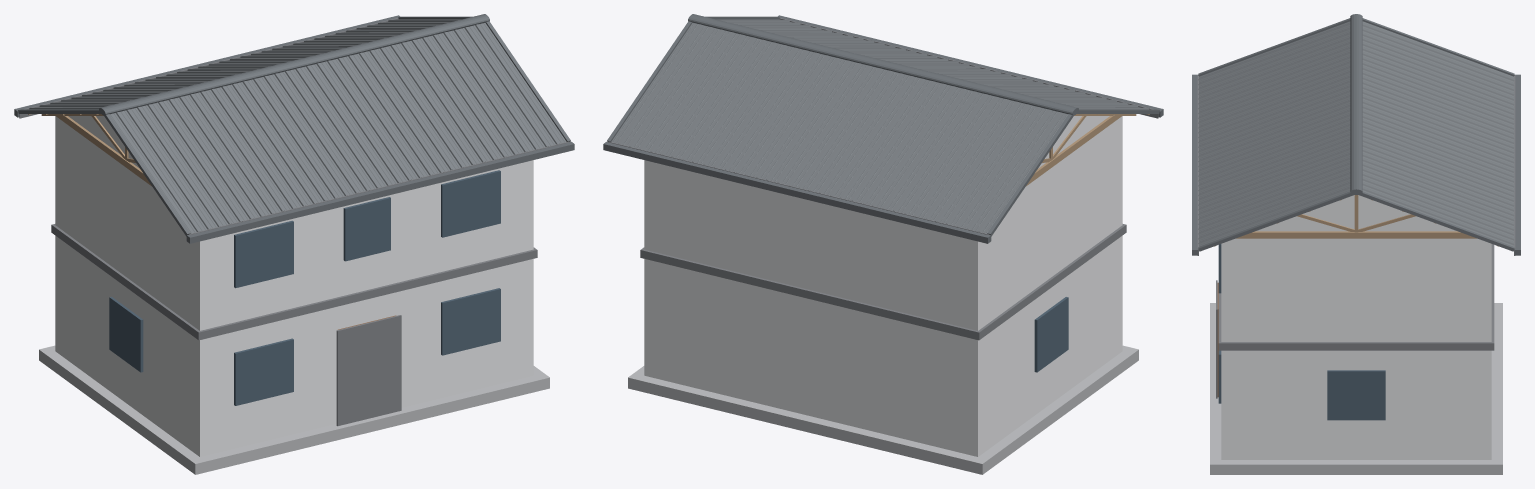
Rendered from Pico_Rib_1220_Two_Storey_8x6.glb.
3 renders of one model, left to right at view 1: azimuth 30°, elevation 25°; view 2: azimuth 150°, elevation 25°; view 3: azimuth 270°, elevation 25°, orthographic. The views are drawn at different scales.
Visible parts, largest first — view 1: GroundFloor_Walls, Foundation, Door_Frame, RoofSheet_03, RoofSheet_05, RoofSheet_08, RoofSheet_02, RoofSheet_04, RoofSheet_06, RoofSheet_07, RoofSheet_01, RoofSheet_09 (+25 smaller); view 2: GroundFloor_Walls, Foundation, RoofSheet_12, RoofSheet_14, RoofSheet_17, RoofSheet_11, RoofSheet_13, RoofSheet_15, RoofSheet_16, RoofSheet_10, RoofSheet_18, SecondFloor_BandTrim (+19 smaller); view 3: GroundFloor_Walls, Foundation, Gable_Wall_Right, SecondFloor_BandTrim, RoofSheet_02, RoofSheet_03, RoofSheet_04, RoofSheet_08, RoofSheet_11, RoofSheet_12, RoofSheet_13, RoofSheet_17 (+21 smaller).
Part boxes in pixels (<box>): GroundFloor_Walls: <box>55,116,533,456</box>; Foundation: <box>39,345,549,474</box>; Door_Frame: <box>336,315,401,426</box>; RoofSheet_03: <box>192,84,315,213</box>; RoofSheet_05: <box>276,63,399,192</box>; RoofSheet_08: <box>403,32,526,161</box>; RoofSheet_02: <box>150,94,272,223</box>; RoofSheet_04: <box>234,73,357,202</box>; RoofSheet_06: <box>319,53,441,182</box>; RoofSheet_07: <box>361,42,484,172</box>; RoofSheet_01: <box>109,104,230,233</box>; RoofSheet_09: <box>445,23,566,151</box>; GroundFloor_Walls: <box>644,116,1122,456</box>; Foundation: <box>628,345,1138,474</box>; RoofSheet_12: <box>862,84,985,213</box>; RoofSheet_14: <box>778,63,901,192</box>; RoofSheet_17: <box>651,32,774,161</box>; RoofSheet_11: <box>905,94,1027,223</box>; RoofSheet_13: <box>820,73,943,202</box>; RoofSheet_15: <box>736,53,858,182</box>; RoofSheet_16: <box>693,42,816,172</box>; RoofSheet_10: <box>947,104,1068,233</box>; RoofSheet_18: <box>611,23,732,151</box>; SecondFloor_BandTrim: <box>640,224,1126,340</box>; GroundFloor_Walls: <box>1221,238,1491,459</box>; Foundation: <box>1210,303,1502,474</box>; Gable_Wall_Right: <box>1256,195,1456,231</box>; SecondFloor_BandTrim: <box>1218,244,1494,350</box>; RoofSheet_02: <box>1198,38,1350,113</box>; RoofSheet_03: <box>1198,58,1350,132</box>; RoofSheet_04: <box>1198,77,1350,151</box>; RoofSheet_08: <box>1198,154,1350,228</box>; RoofSheet_11: <box>1362,38,1514,113</box>; RoofSheet_12: <box>1362,58,1514,132</box>; RoofSheet_13: <box>1362,77,1514,151</box>; RoofSheet_17: <box>1362,154,1514,228</box>.
Bounding box in the file's own units: 9.22 × 7.16 × 7.3.
